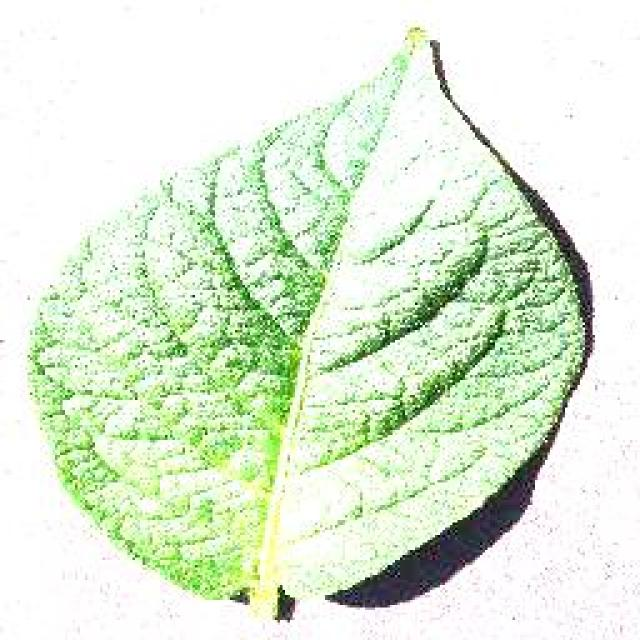Potato___healthy: (21, 21, 592, 630)
